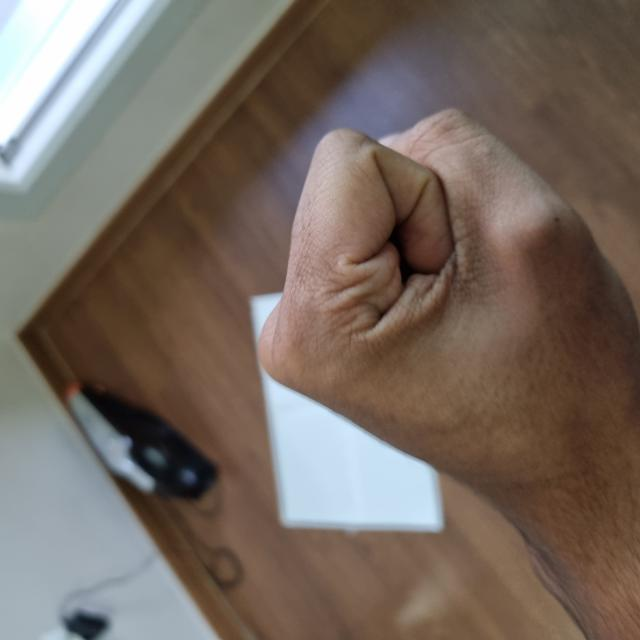Rock: (134, 266, 515, 638)
